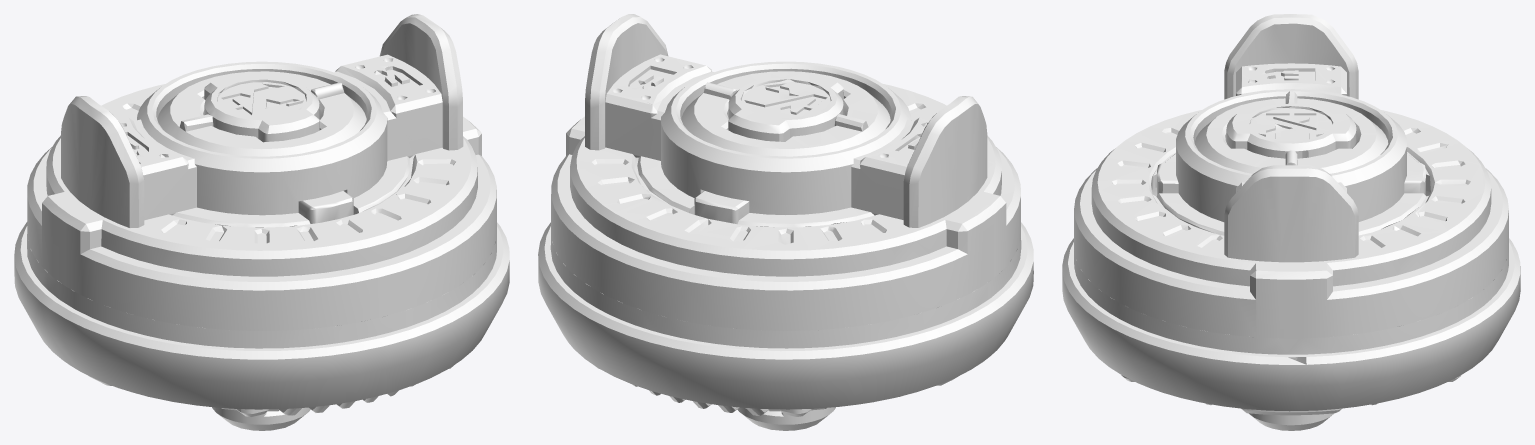
File: ripfireextendgeo.fbx
3 views of the same model, side by side, from view 1: azimuth 30°, elevation 25°; view 2: azimuth 150°, elevation 25°; view 3: azimuth 270°, elevation 25° (orthographic). The views are drawn at different scales.
Parts seen in each view (by area): view 1: RipFireExtendGeo; view 2: RipFireExtendGeo; view 3: RipFireExtendGeo.
Part boxes in pixels (x1=…): RipFireExtendGeo: x1=14, y1=14, x2=509, y2=430; RipFireExtendGeo: x1=538, y1=14, x2=1033, y2=430; RipFireExtendGeo: x1=1062, y1=14, x2=1520, y2=430.
Size of the model in its own units: 0.3881 by 0.3121 by 0.388.
2 materials, 2 textured.
